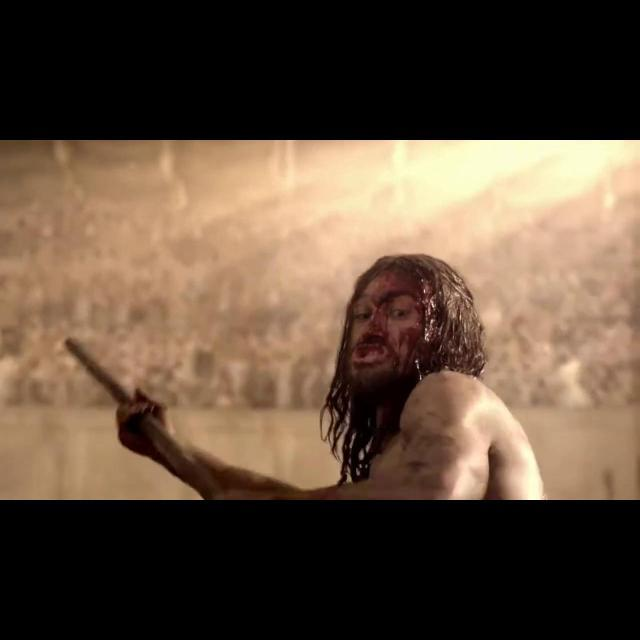blood: (350, 270, 440, 386)
